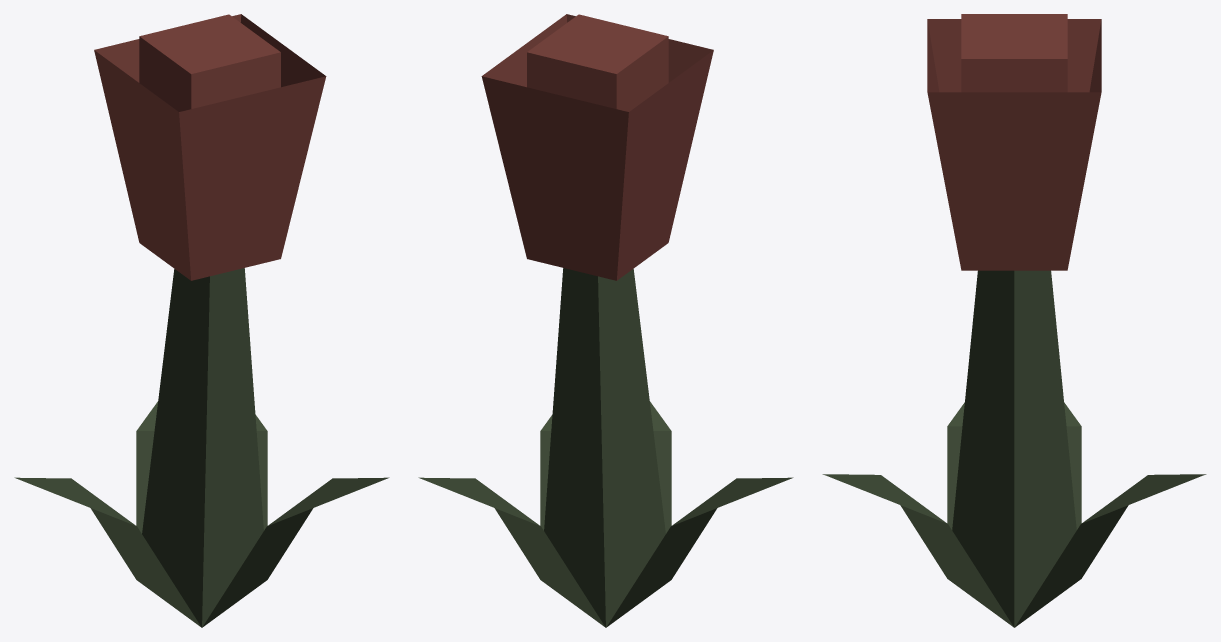
File: blume_rot.glb
3 renders of one model, left to right at view 1: azimuth 30°, elevation 25°; view 2: azimuth 150°, elevation 25°; view 3: azimuth 270°, elevation 25°, orthographic. The views are drawn at different scales.
Visible parts, largest first — view 1: blume_rot; view 2: blume_rot; view 3: blume_rot.
Boxes of the visible parts, x1,y1,x2,y2 form: blume_rot: (14, 14, 389, 627); blume_rot: (418, 14, 793, 627); blume_rot: (822, 14, 1206, 627).
Size of the model in its own units: 0.1305 by 0.24 by 0.1486.
